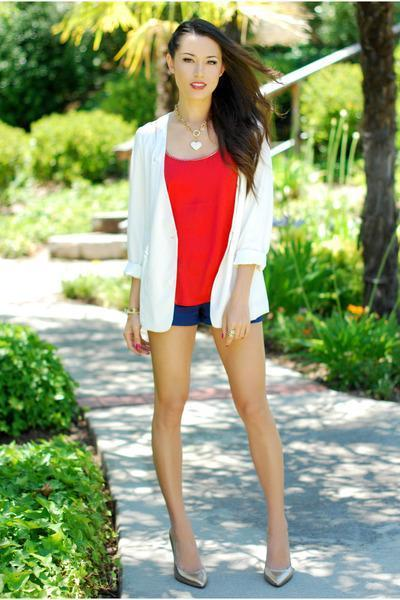jacket: (115, 113, 292, 340)
shirt: (164, 145, 237, 305)
shoe: (169, 523, 292, 597)
shorts: (172, 301, 211, 331)
